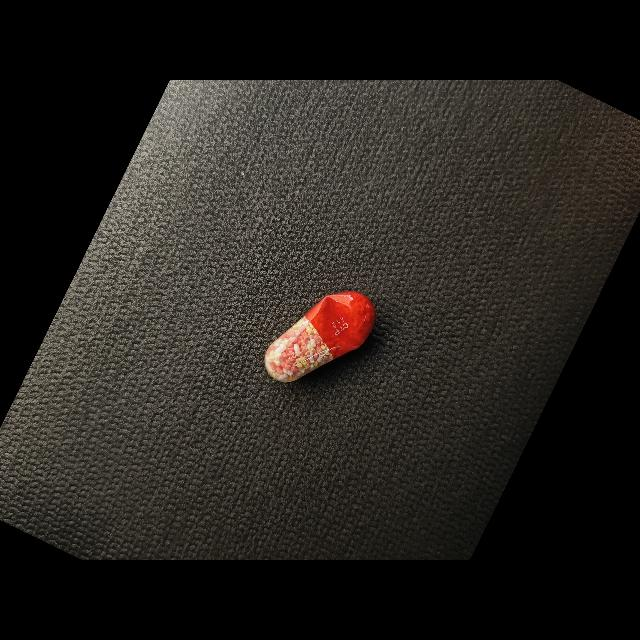Defective Capsule: (264, 291, 376, 382)
